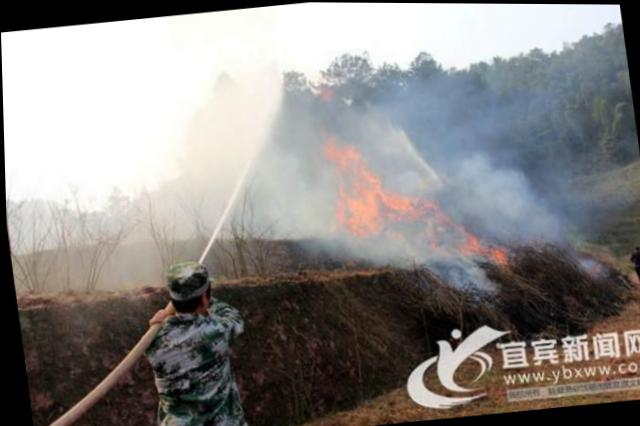fire: (310, 114, 512, 281)
